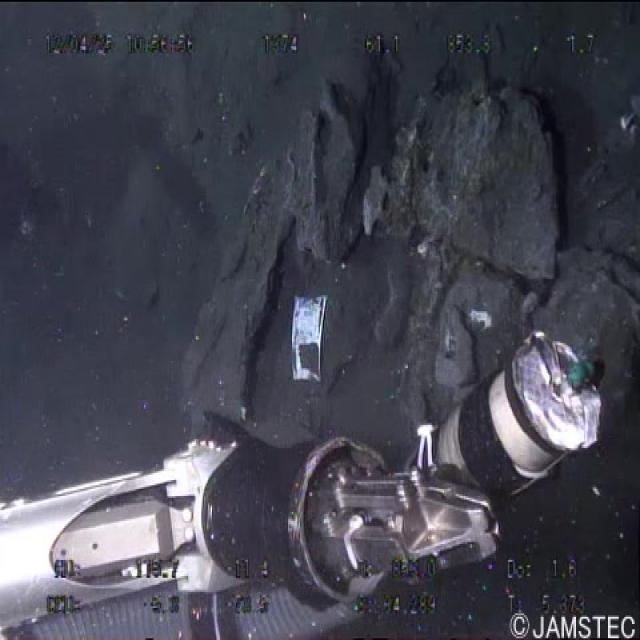plastic: (283, 288, 333, 388)
